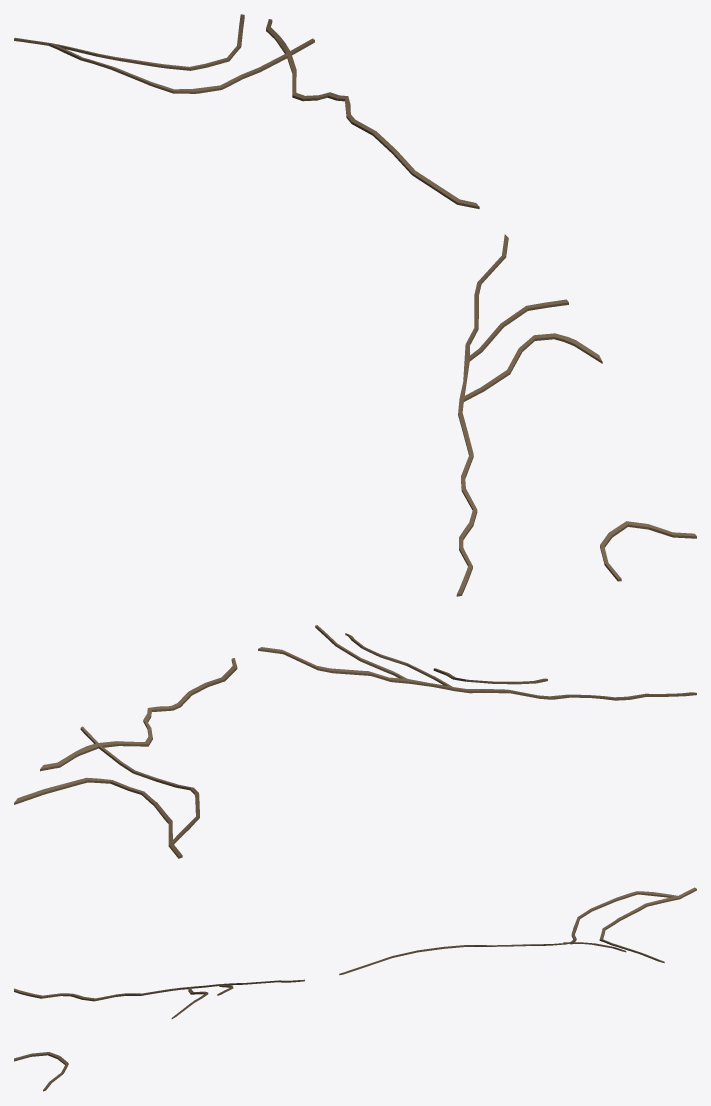
3 renders of one model, top to bottom at view 1: azimuth 30°, elevation 25°; view 2: azimuth 150°, elevation 25°; view 3: azimuth 270°, elevation 25°, orthographic. The views are drawn at different scales.
Bounding box in the file's own units: 82.93 × 67.36 × 275.
